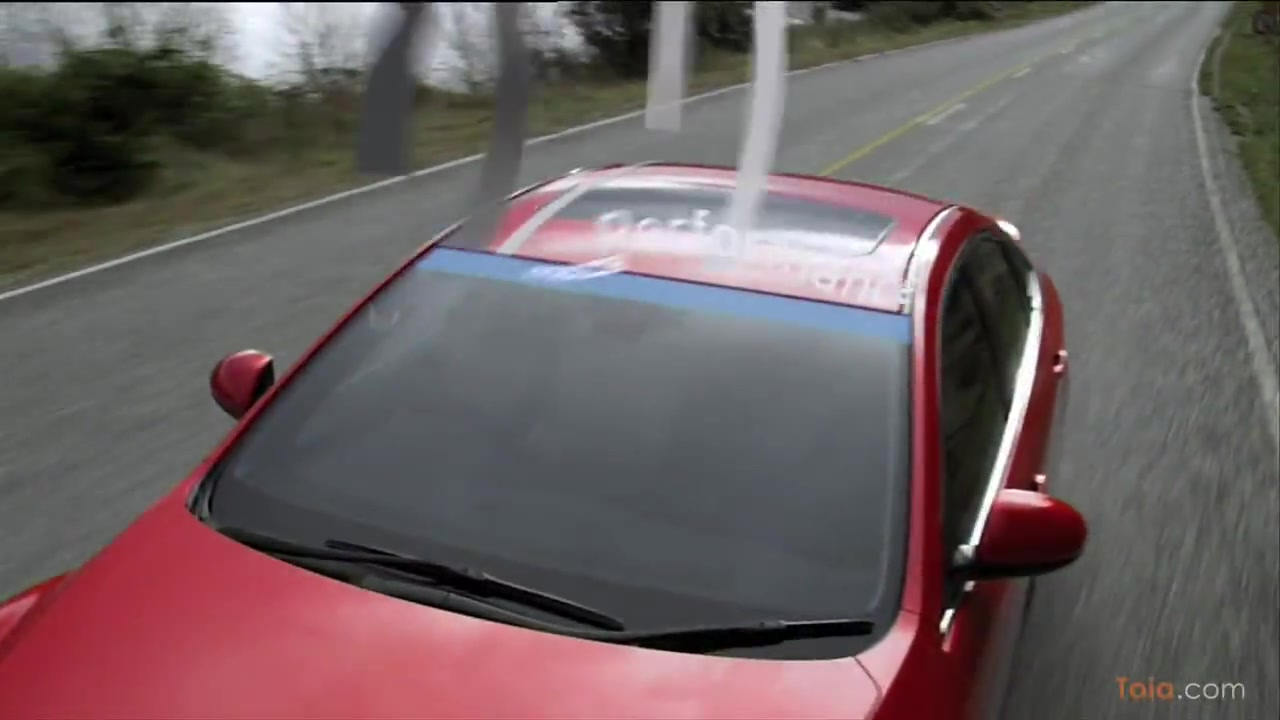car: (1, 160, 1103, 720)
